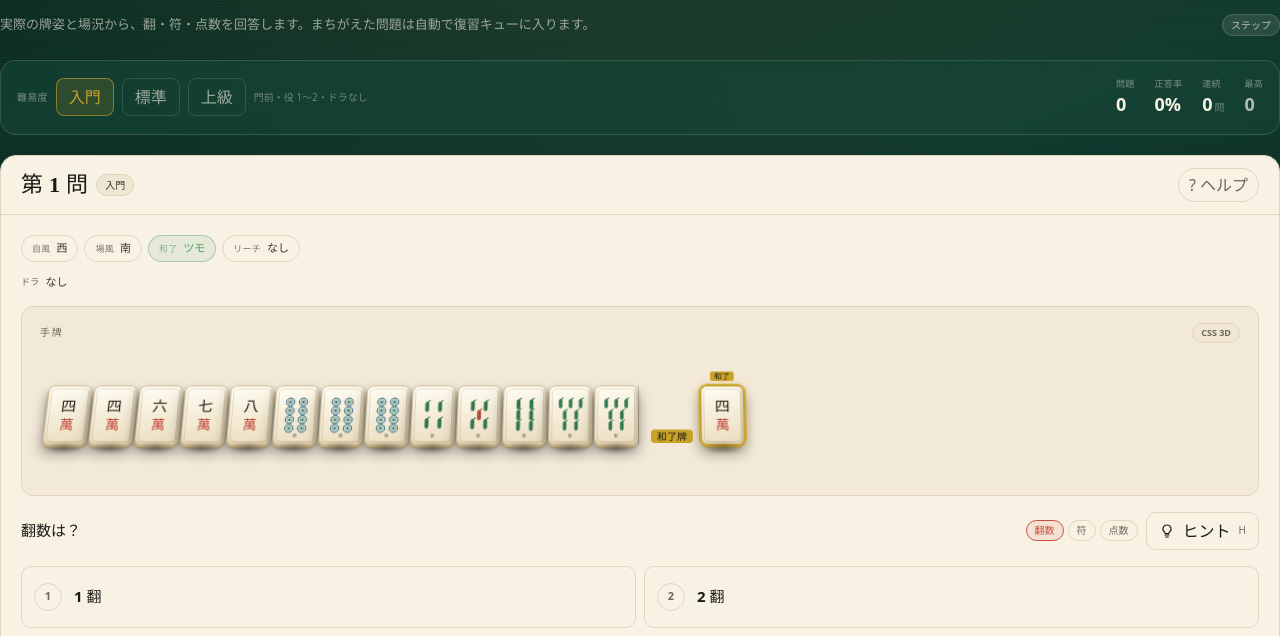
Test: 練習フロー › ステップ回答: 翻 → 符 → 点数 → 結果
Expected: the text "翻数は？" is shown, [21,519,81,542]
Click the button with test id "choice" at (671, 596), box [644,566,1259,628]
(page scrolled)
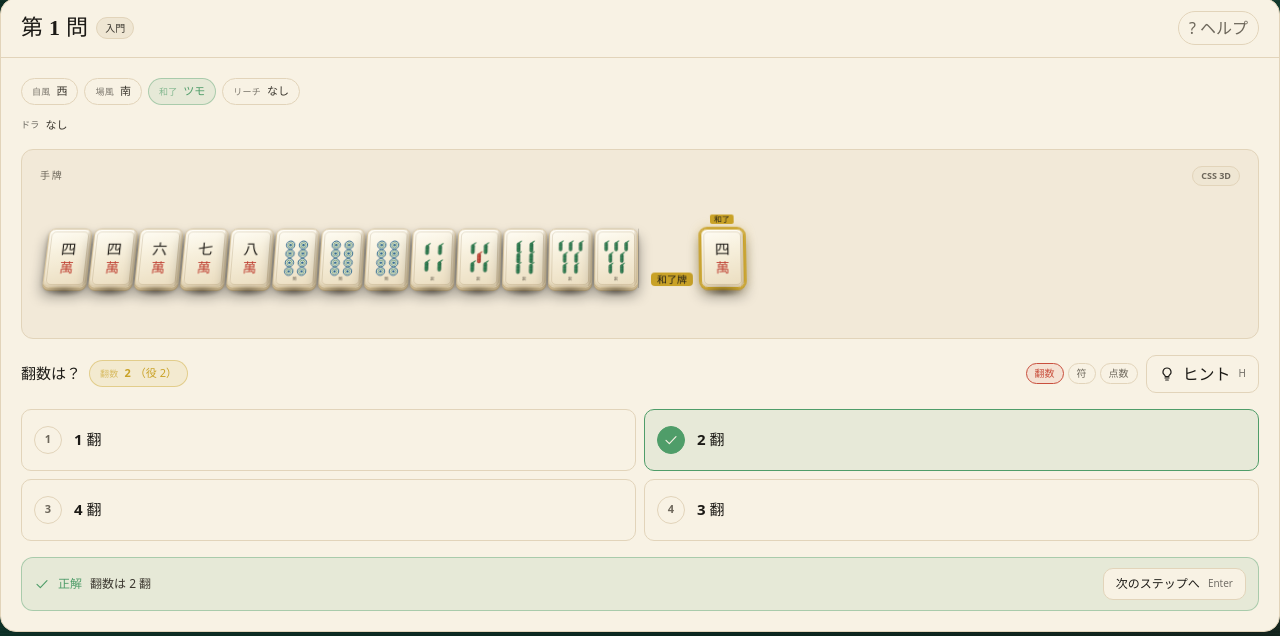
Expected: the button "次のステップへ Enter" is shown
Click the button "次のステップへ Enter" at (1174, 584), box [1103,568,1246,600]
(page scrolled)
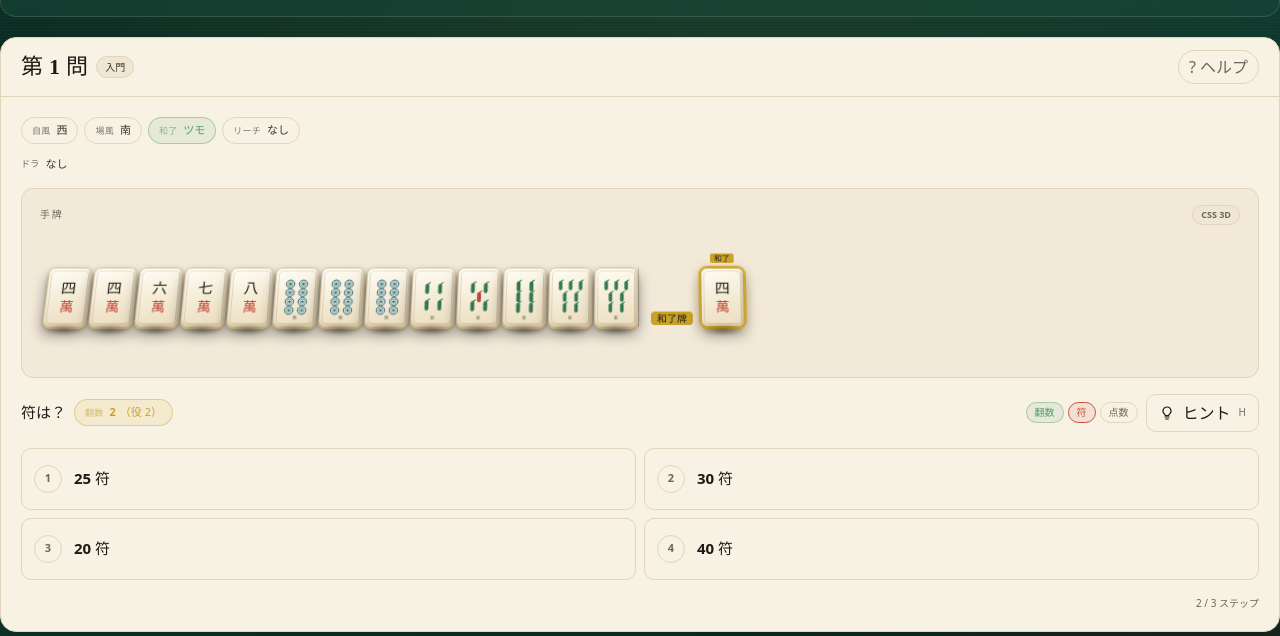
Expected: the text "符は？" is shown, [21,401,66,424]
Click the button with test id "choice" at (715, 478), box [644,448,1259,510]
(page scrolled)
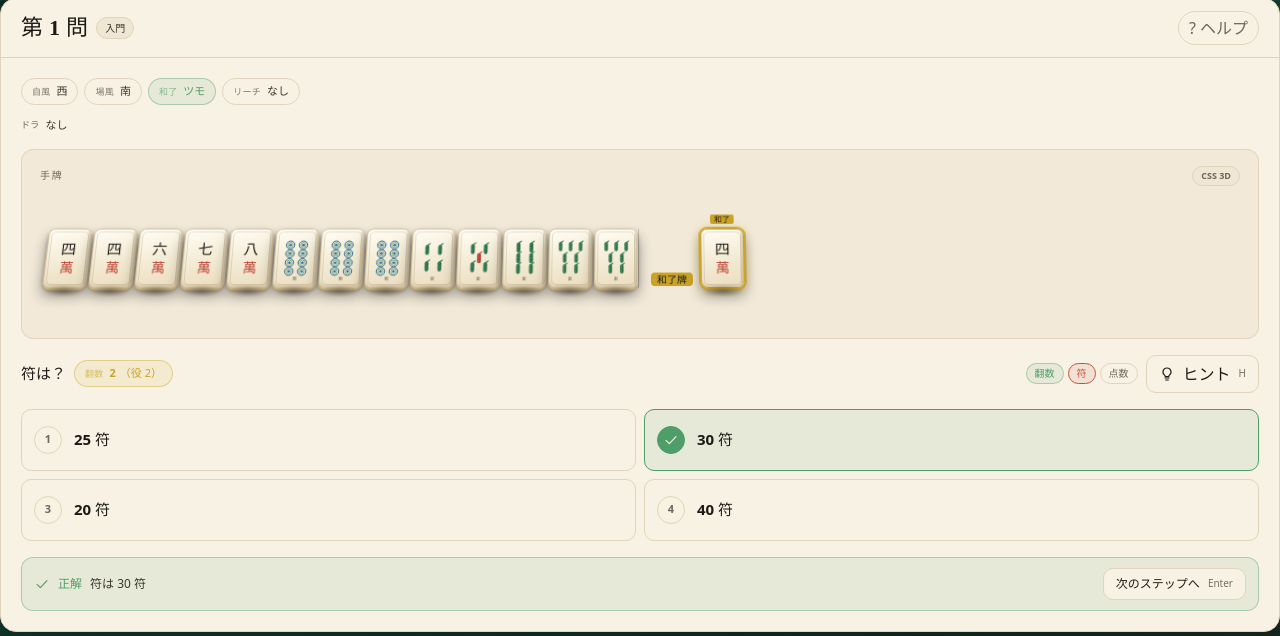
Click the button "次のステップへ Enter" at (1174, 584), box [1103,568,1246,600]
(page scrolled)
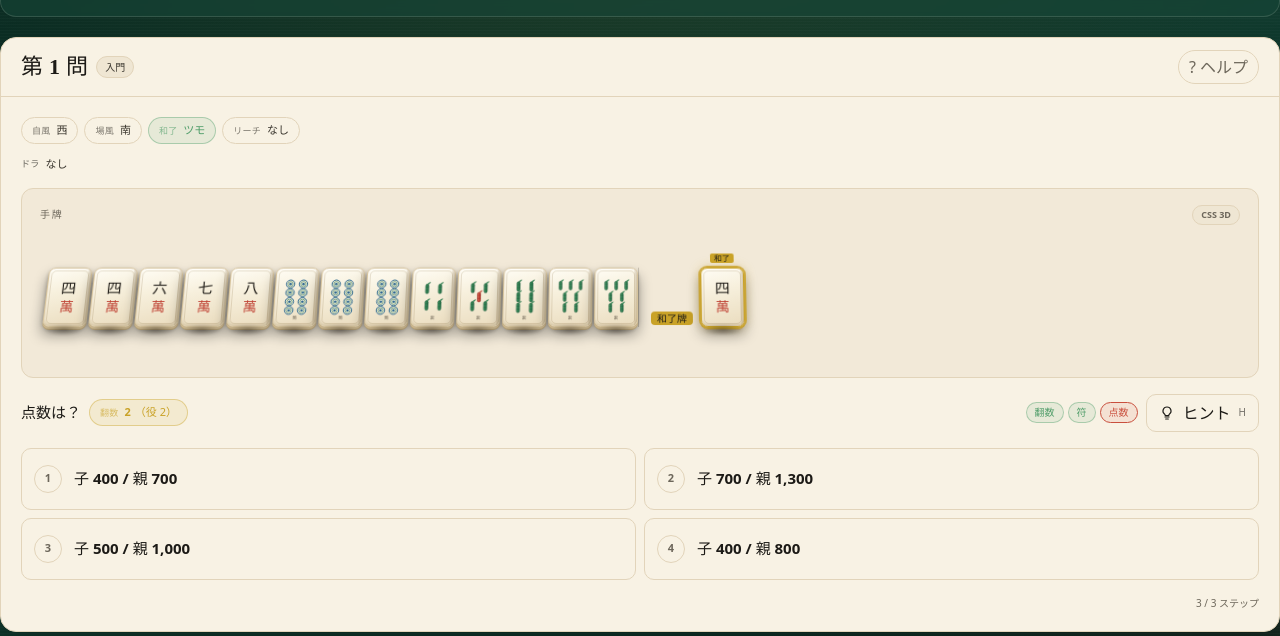
Expected: the text "点数は？" is shown, [21,401,81,424]
Click the button with test id "choice" at (132, 548), box [21,518,636,580]
(page scrolled)
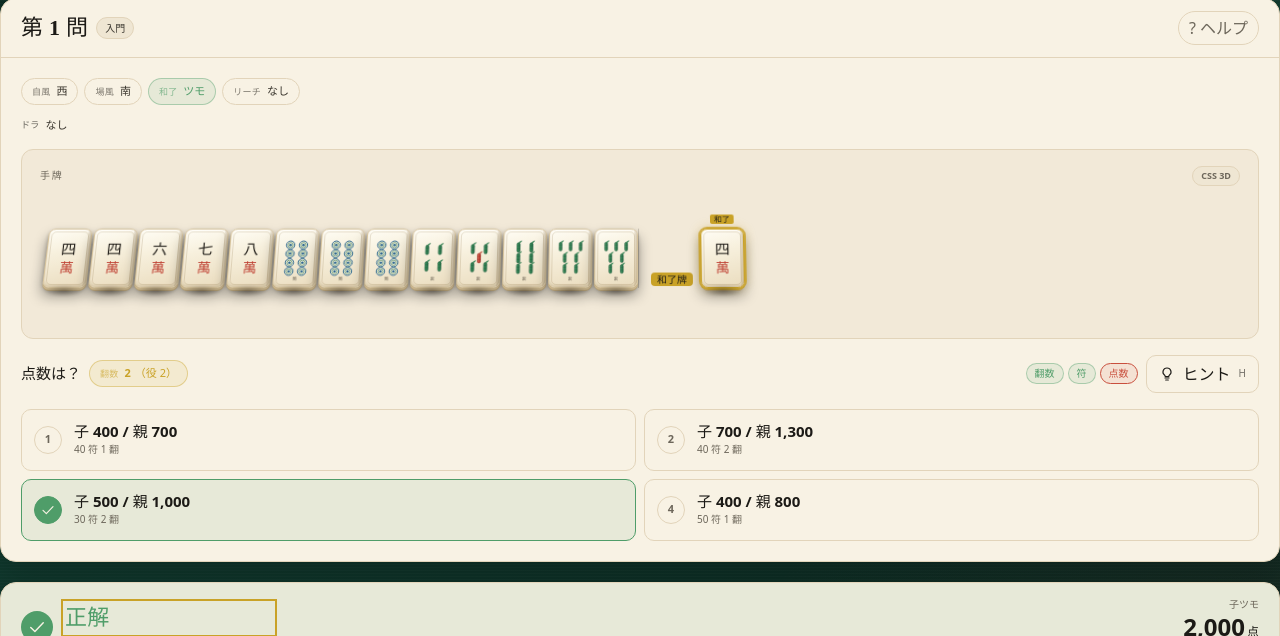
Expected: the heading "正解" is shown, [65,605,110,630]
